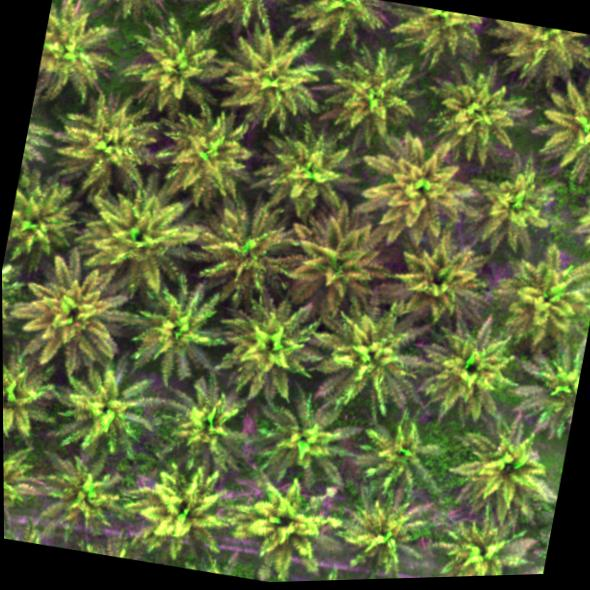oilpalm: (341, 125, 490, 259), (5, 246, 147, 383), (404, 44, 539, 182), (297, 26, 435, 160), (240, 108, 380, 233), (303, 297, 431, 431), (399, 314, 538, 437), (201, 19, 329, 145), (74, 174, 209, 292), (119, 272, 243, 400), (209, 287, 332, 415), (268, 205, 397, 327), (185, 187, 310, 309), (150, 103, 272, 226), (65, 82, 183, 208), (371, 217, 498, 334), (460, 149, 580, 267), (438, 415, 559, 531), (113, 7, 229, 128), (27, 440, 147, 545), (236, 469, 346, 578), (51, 359, 164, 465), (254, 392, 361, 495), (151, 377, 255, 479), (495, 241, 590, 351), (349, 407, 449, 508), (2, 168, 92, 275), (332, 490, 435, 580), (520, 64, 590, 196), (139, 462, 235, 558), (513, 329, 587, 447), (34, 0, 116, 103), (478, 14, 590, 83), (3, 345, 66, 456), (384, 0, 486, 65), (435, 511, 527, 577), (294, 0, 383, 43), (3, 431, 41, 529), (193, 0, 293, 32), (83, 0, 187, 23)
